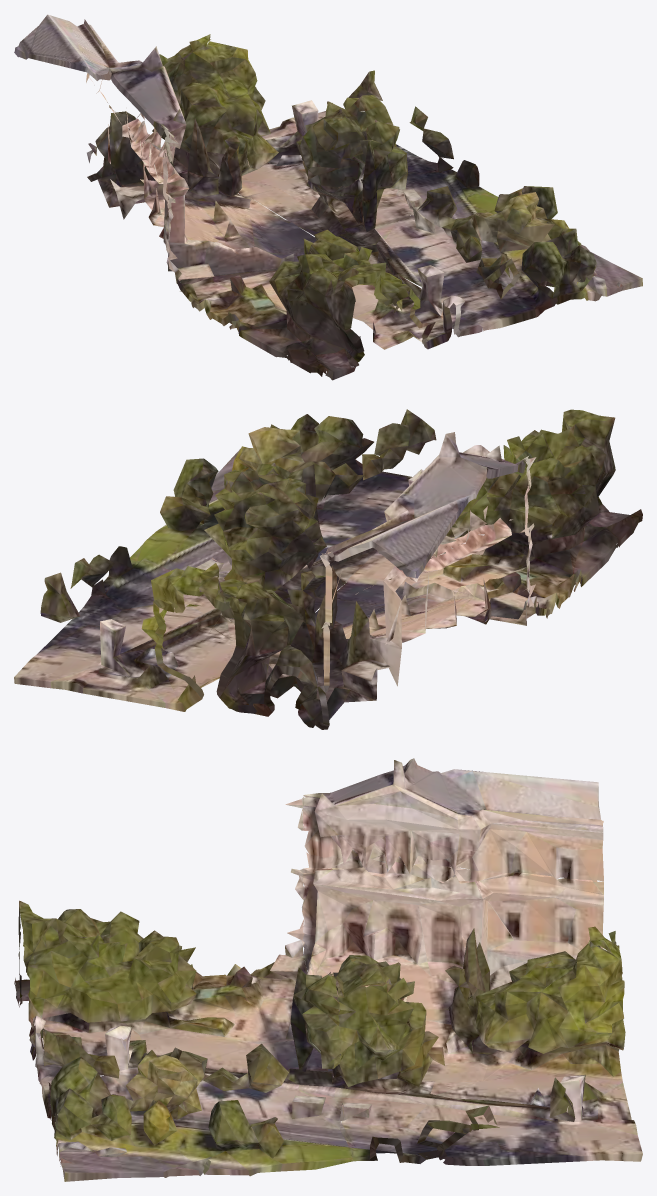
The picture shows the model from 3 angles, top to bottom: view 1: azimuth 30°, elevation 25°; view 2: azimuth 150°, elevation 25°; view 3: azimuth 270°, elevation 25°; orthographic projection. The views are drawn at different scales.
Parts seen in each view (by area): view 1: Mesh_0; view 2: Mesh_0; view 3: Mesh_0.
Part boxes in pixels (x1,y1,x2,y2): Mesh_0: (14, 14, 642, 380); Mesh_0: (14, 409, 642, 729); Mesh_0: (14, 758, 642, 1181).
Bounding box in the file's own units: 66.56 × 35.39 × 82.62.
Materials: 1 (1 with a texture image).
